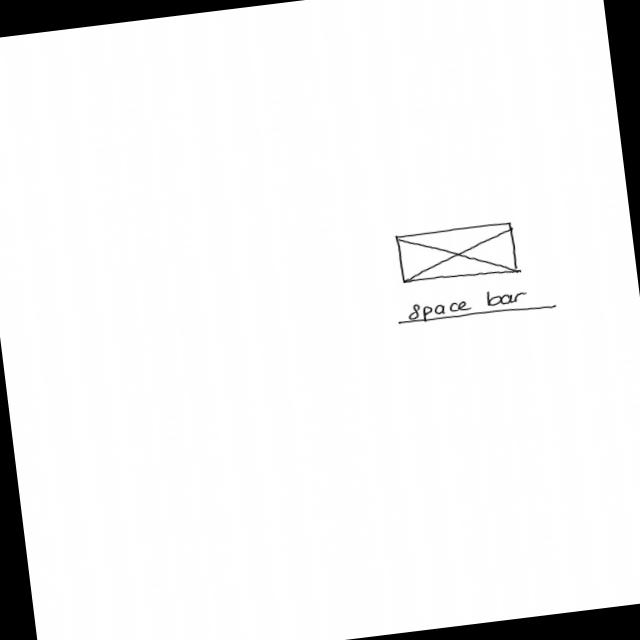image: (395, 221, 522, 289)
input: (397, 283, 560, 331)
